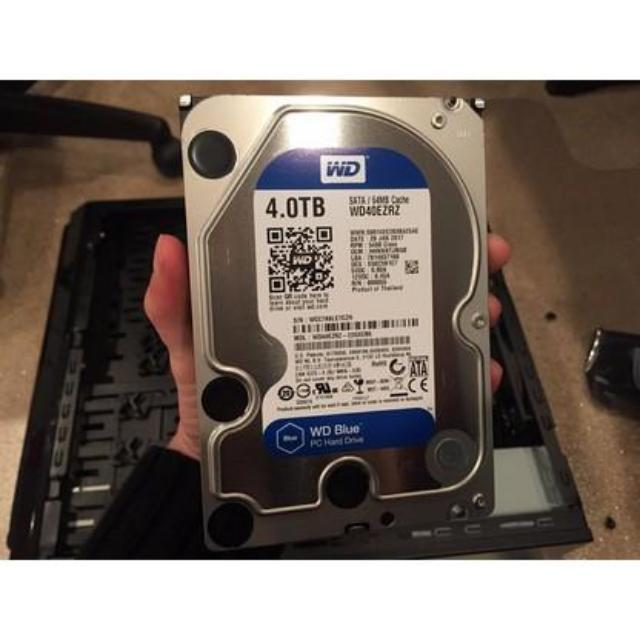DISK: (179, 89, 496, 531)
